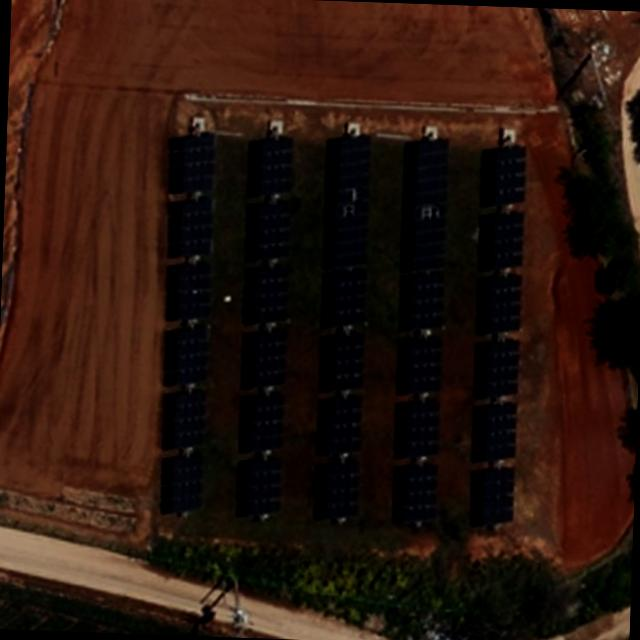solar: (332, 134, 372, 268), (242, 456, 286, 522), (163, 454, 208, 518), (320, 458, 362, 526), (395, 465, 441, 527), (475, 464, 517, 530), (399, 399, 442, 462), (411, 138, 450, 206), (402, 335, 444, 398), (168, 387, 208, 452), (245, 394, 288, 454), (322, 397, 364, 458), (329, 268, 368, 332), (170, 325, 210, 387), (479, 402, 518, 464), (248, 330, 288, 390), (173, 258, 211, 321), (251, 267, 292, 325), (482, 340, 522, 399), (408, 270, 446, 332), (410, 216, 450, 274), (254, 139, 294, 197), (484, 274, 522, 335), (176, 197, 213, 259), (326, 334, 364, 394), (256, 201, 294, 261), (180, 133, 217, 193), (491, 146, 526, 208), (489, 212, 525, 269)
